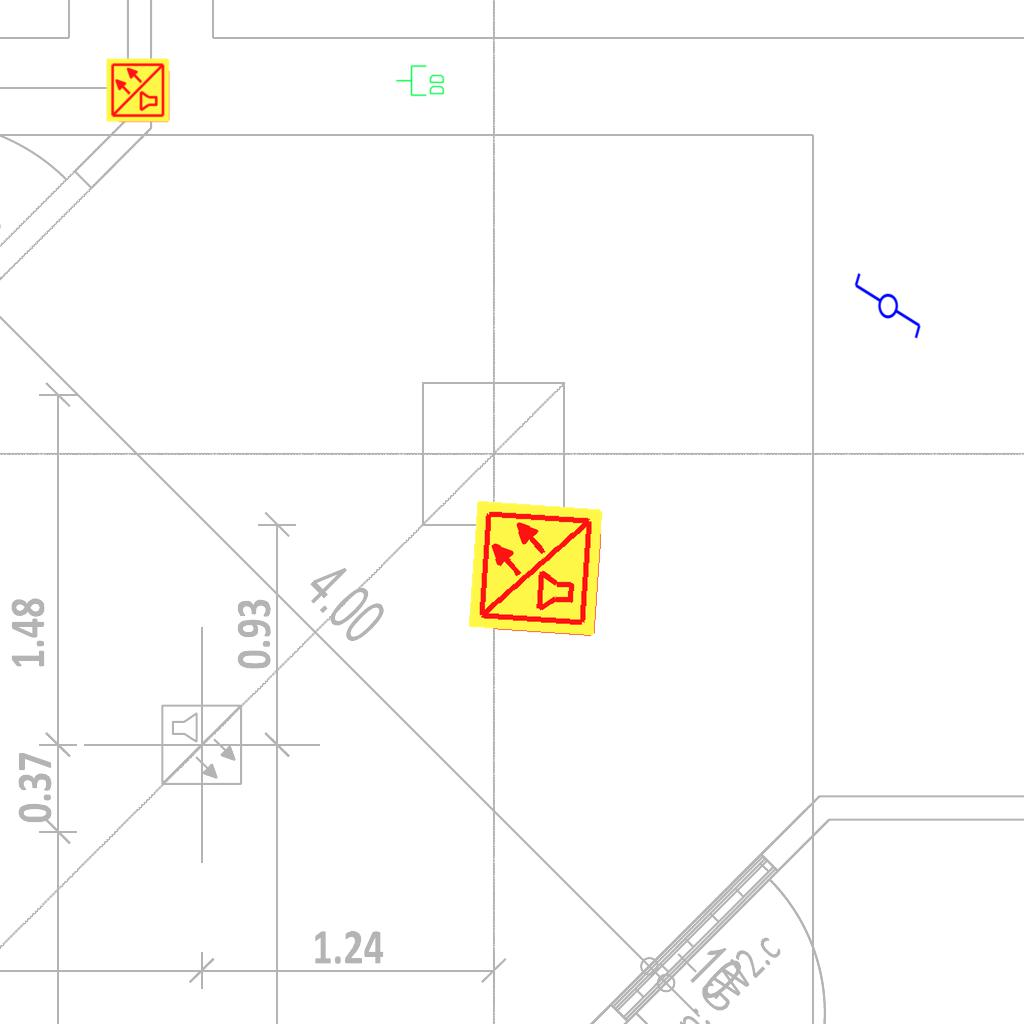Datenanschluss_zweifach: (395, 64, 446, 98)
OKW_Multisensormelder_(Kombination_optischer_Rauch-Kahlenmonoxid_Waerme-Melder): (465, 497, 607, 639), (105, 57, 171, 123)
Wechselschalter: (851, 271, 923, 349)
